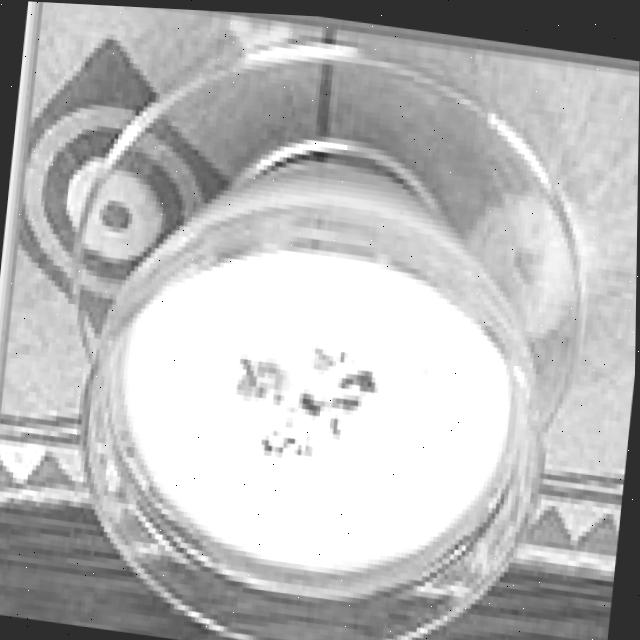汤锅炖物: (62, 134, 583, 640)
